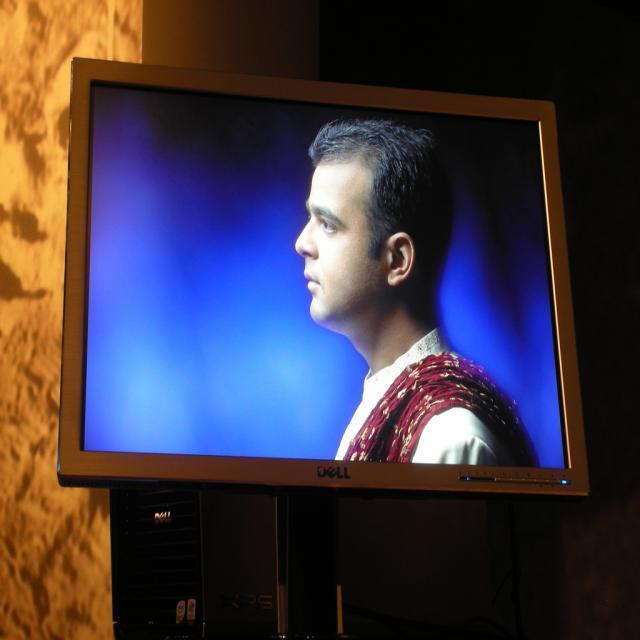others: (67, 52, 596, 515)
